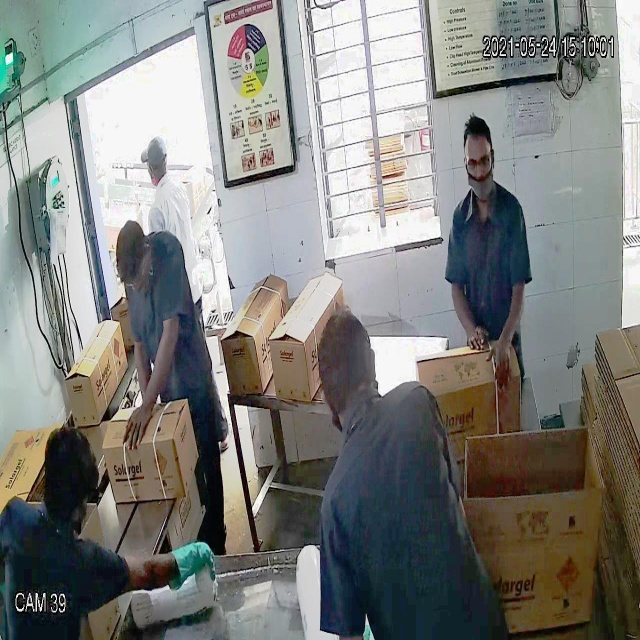Gafas: (462, 148, 496, 177)
